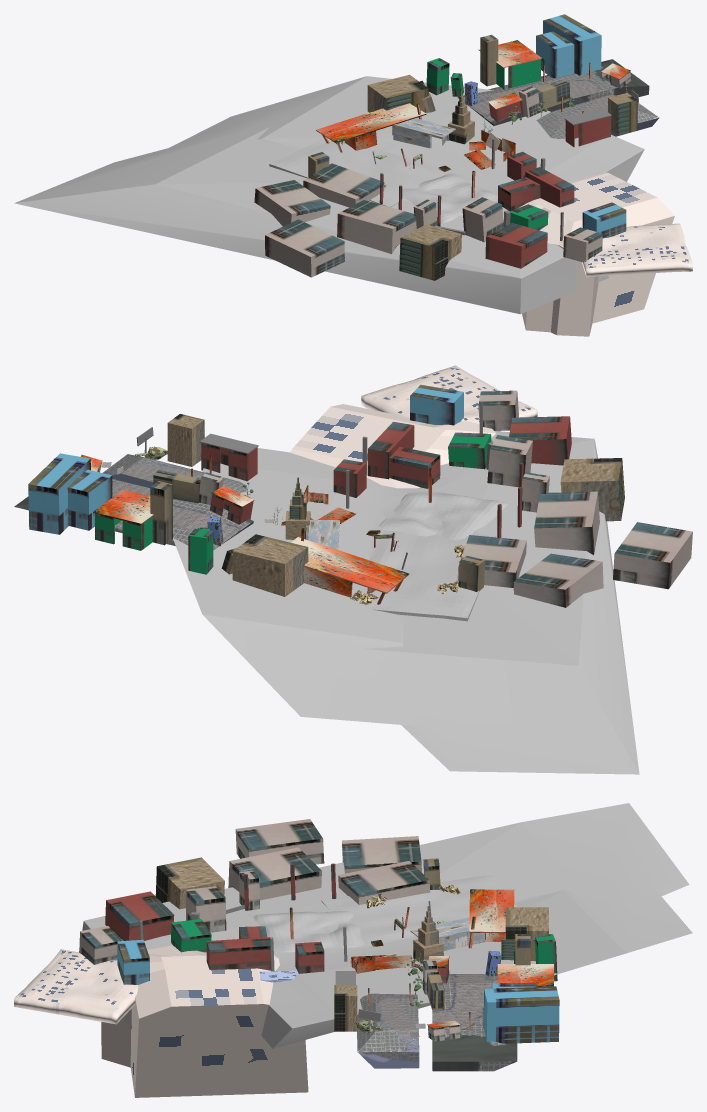
Rendered from Poligono.fbx.
3 views of the same model, one above another, from view 1: azimuth 30°, elevation 25°; view 2: azimuth 150°, elevation 25°; view 3: azimuth 270°, elevation 25° (orthographic). The views are drawn at different scales.
Visible parts, largest first — view 1: Playa, Cube_042, WavyGround__1_, Cube_040__11_, Cube_002, Cube_040__9_, Cube_040__8_, Cube_040__10_, Cube_040__19_, Cube_040__7_, Cube_060, Cube_056__2_ (+20 smaller); view 2: Playa, Cube_042, Cube_040__11_, Cube_040__9_, Cube_059, Cube_040__10_, WavyGround__1_, Cube_060, Cube_040__8_, Cube_056__2_, Cube_002, Cube_040__7_ (+19 smaller); view 3: Playa, Cube_042, WavyGround__1_, Cube_002, Cube_060, Cube_003, Cube_040__9_, Cube_040__11_, Cube_040__19_, Cube_040__7_, Cube_040__10_, Cube_040__8_ (+17 smaller).
Part boxes in pixels (x1,y1,x2,y2): Playa: [14, 76, 644, 314]; Cube_042: [519, 172, 674, 336]; WavyGround__1_: [582, 223, 692, 277]; Cube_040__11_: [265, 219, 344, 277]; Cube_002: [457, 59, 649, 125]; Cube_040__9_: [337, 200, 416, 254]; Cube_040__8_: [399, 224, 461, 280]; Cube_040__10_: [254, 180, 330, 226]; Cube_040__19_: [303, 163, 384, 207]; Cube_040__7_: [485, 223, 547, 268]; Cube_060: [543, 14, 601, 75]; Cube_056__2_: [316, 103, 426, 143]; Playa: [173, 431, 639, 774]; Cube_042: [290, 404, 496, 488]; Cube_040__11_: [613, 522, 692, 589]; Cube_040__9_: [534, 491, 599, 554]; Cube_059: [232, 534, 308, 596]; Cube_040__10_: [513, 553, 603, 607]; WavyGround__1_: [361, 365, 537, 431]; Cube_060: [28, 453, 90, 534]; Cube_040__8_: [560, 458, 624, 521]; Cube_056__2_: [291, 537, 409, 593]; Cube_002: [14, 479, 253, 550]; Cube_040__7_: [509, 416, 571, 465]; Playa: [79, 803, 692, 1048]; Cube_042: [101, 945, 308, 1097]; WavyGround__1_: [14, 949, 138, 1024]; Cube_002: [432, 974, 517, 1071]; Cube_060: [483, 986, 559, 1043]; Cube_003: [357, 993, 419, 1068]; Cube_040__9_: [228, 847, 321, 900]; Cube_040__11_: [235, 819, 324, 864]; Cube_040__19_: [338, 861, 430, 904]; Cube_040__7_: [105, 891, 174, 940]; Cube_040__10_: [342, 836, 421, 873]; Cube_040__8_: [155, 857, 224, 909].
Size of the model in its own units: 132508 by 34173 by 122281.
